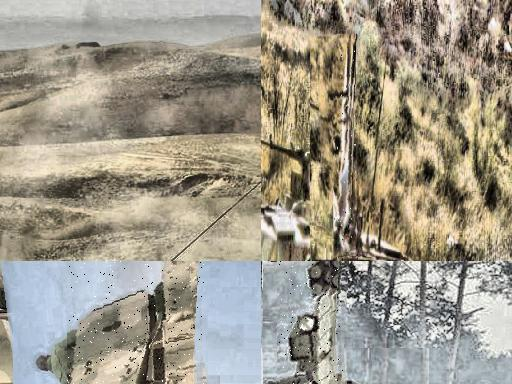tanks: (75, 262, 202, 384), (279, 262, 342, 384), (334, 36, 359, 261), (313, 249, 320, 262)
